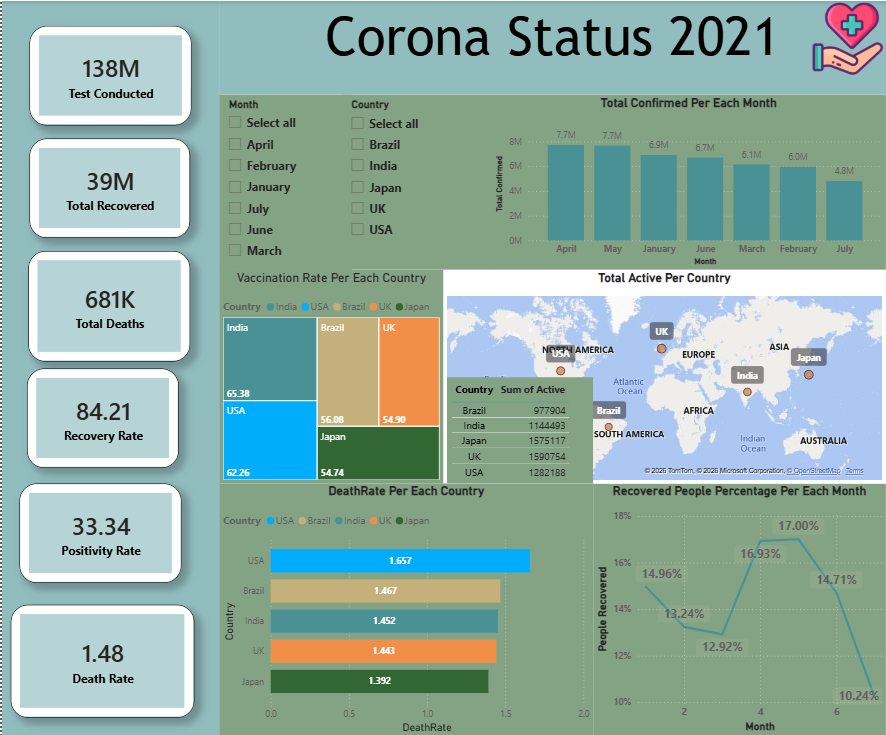

What the dashboard file says about the page in this screenshot:
{"tool":"powerbi","page":{"name":"Page 1","canvas":[1200,1000],"ordinal":0},"visuals":[{"type":"lineChart","title":"Recovered People Percentage Per Each Month","fields":{"Y":["Sum(COVID19_Statistics_Cleaned.Recovered)"],"Category":["DimDate.Month"]},"box":[803.3,655.6,397.4,343.1],"z":0},{"type":"textbox","box":[0,0,296,998],"z":1000},{"type":"cardVisual","fields":{"Data":["Sum(COVID19_Statistics_Cleaned.Recovered)"]},"box":[37.5,187.5,218.3,135],"z":2000},{"type":"cardVisual","fields":{"Data":["Sum(COVID19_Statistics_Cleaned.Deaths)"]},"box":[35,340,220,150],"z":3000},{"type":"cardVisual","fields":{"Data":["Sum(COVID19_Statistics_Cleaned.Tests_Conducted)"]},"box":[38,34,220,135],"z":4000},{"type":"cardVisual","fields":{"Data":["COVID19_Statistics_Cleaned.Recovery Percentage"]},"box":[34,500,206.7,135],"z":5000},{"type":"cardVisual","fields":{"Data":["COVID19_Statistics_Cleaned.DeathRate"]},"box":[12,820,249.7,153.7],"z":6000},{"type":"cardVisual","fields":{"Data":["COVID19_Statistics_Cleaned.PositivityRate"]},"box":[24,656,220,135],"z":7000},{"type":"map","title":"Total Active Per Country","fields":{"Size":["Sum(COVID19_Statistics_Cleaned.Active)"],"Category":["DimRegion.Country"]},"box":[599.5,365.2,601.2,290.4],"z":8000},{"type":"tableEx","fields":{"Values":["DimRegion.Country","Sum(COVID19_Statistics_Cleaned.Active)"]},"box":[604.6,511.2,198.7,144.4],"z":8500},{"type":"columnChart","title":"Total Confirmed Per Each Month","fields":{"Category":["DimDate.MonthName"],"Y":["Sum(COVID19_Statistics_Cleaned.Confirmed)"]},"box":[665.8,127.4,535,237.8],"z":9000},{"type":"textbox","box":[295.5,0,905.2,127.4],"z":10000},{"type":"image","box":[1096.7,0,104,102],"z":11000},{"type":"barChart","title":"DeathRate Per Each Country","fields":{"Category":["DimRegion.Country"],"Y":["COVID19_Statistics_Cleaned.DeathRate"],"Series":["DimRegion.Country"]},"box":[295.5,655.6,507.8,344.8],"z":12000},{"type":"treemap","title":"Vaccination Rate Per Each Country","fields":{"Group":["DimRegion.Country"],"Values":["Avg(COVID19_Statistics_Cleaned.Vaccination_Rate_%)"]},"box":[295.5,365.2,304,290.4],"z":13000},{"type":"slicer","fields":{"Values":["DimDate.MonthName"]},"box":[296,128,180,238],"z":14000},{"type":"slicer","fields":{"Values":["DimRegion.Country"]},"box":[462,127.4,203.8,237.8],"z":15000}]}

Visuals, with their boxes in screenshot pixels (x1, y1, x2, y2), scaled from the page's 1200x1000 canvas onto the 886x735 screenshot:
"Recovered People Percentage Per Each Month" lineChart: select_region(593, 482, 885, 734)
textbox: select_region(0, 0, 219, 734)
cardVisual - Sum(COVID19_Statistics_Cleaned.Recovered): select_region(28, 138, 189, 237)
cardVisual - Sum(COVID19_Statistics_Cleaned.Deaths): select_region(26, 250, 188, 360)
cardVisual - Sum(COVID19_Statistics_Cleaned.Tests_Conducted): select_region(28, 25, 190, 124)
cardVisual - COVID19_Statistics_Cleaned.Recovery Percentage: select_region(25, 368, 178, 467)
cardVisual - COVID19_Statistics_Cleaned.DeathRate: select_region(9, 603, 193, 716)
cardVisual - COVID19_Statistics_Cleaned.PositivityRate: select_region(18, 482, 180, 581)
"Total Active Per Country" map: select_region(443, 268, 885, 482)
tableEx - DimRegion.Country x Sum(COVID19_Statistics_Cleaned.Active): select_region(446, 376, 593, 482)
"Total Confirmed Per Each Month" columnChart: select_region(492, 94, 885, 268)
textbox: select_region(218, 0, 885, 94)
image: select_region(810, 0, 885, 75)
"DeathRate Per Each Country" barChart: select_region(218, 482, 593, 734)
"Vaccination Rate Per Each Country" treemap: select_region(218, 268, 443, 482)
slicer - DimDate.MonthName: select_region(219, 94, 351, 269)
slicer - DimRegion.Country: select_region(341, 94, 492, 268)
